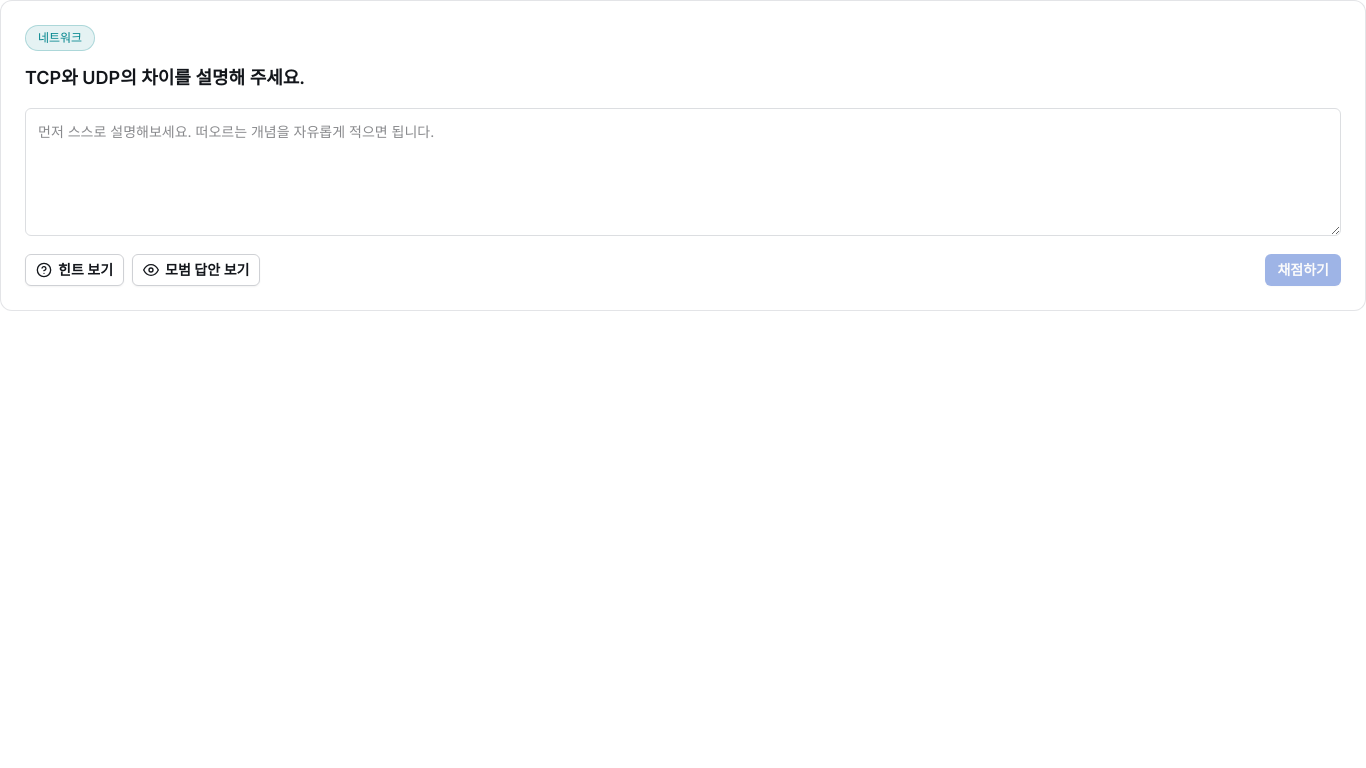
it: CsQuestionCard › 다시 풀기를 누르면 입력과 결과가 초기화된다
The image size is (1366, 768).
Type "답변" into the text box at (683, 172), box [25, 108, 1341, 236]
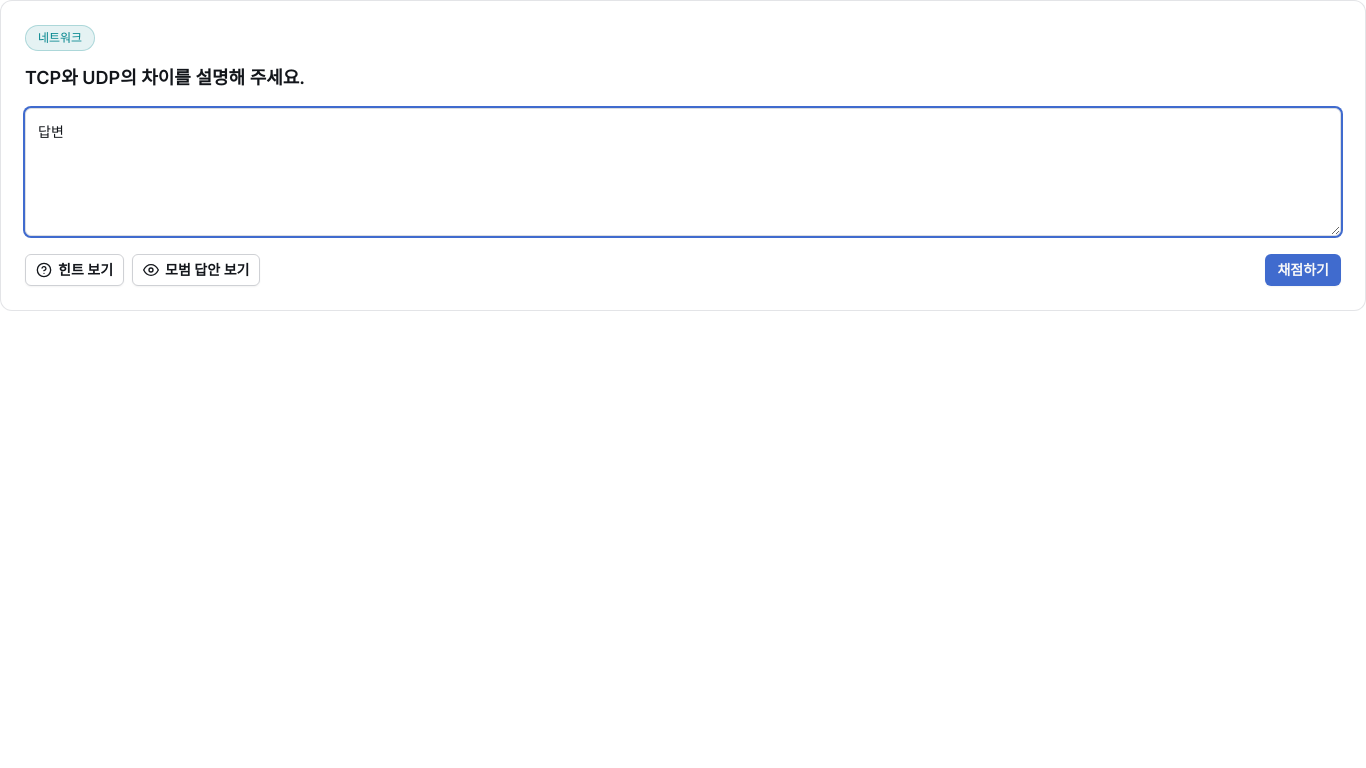
Click the button "채점하기" at (1303, 270), box [1266, 254, 1341, 286]
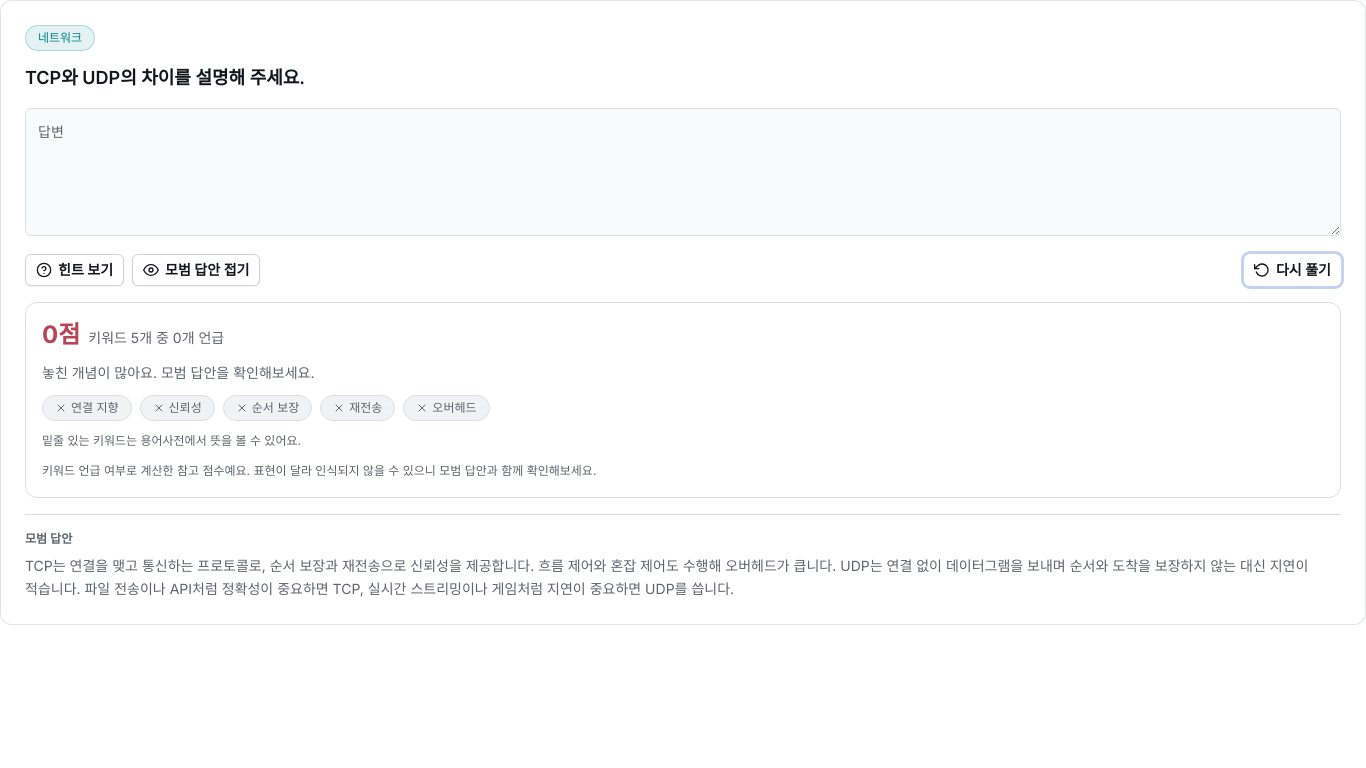
Result: the message is shown at [25, 302, 1341, 498]
Click the button "다시 풀기" at (1292, 270), box [1244, 254, 1341, 286]
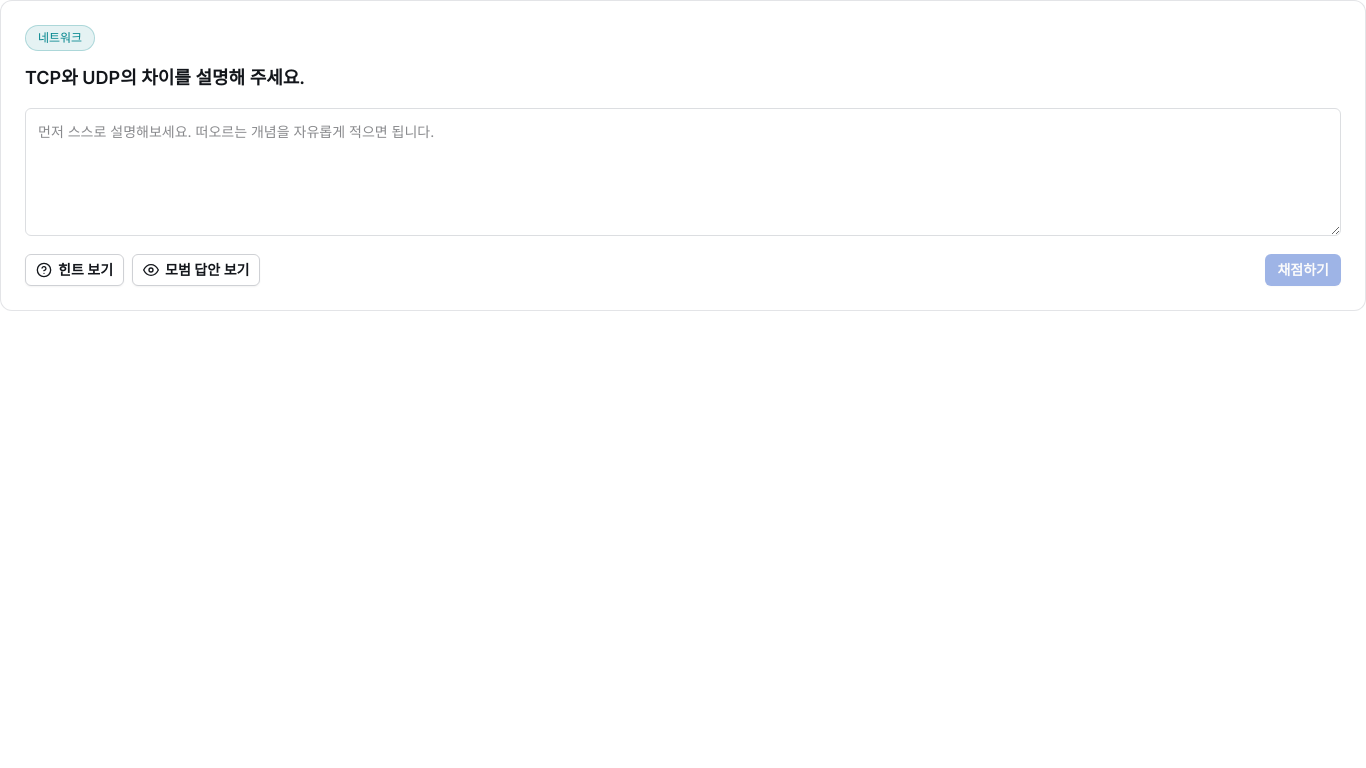
Result: the message is gone
Result: the text box is empty at [25, 108, 1341, 236]
Result: the text box is enabled at [25, 108, 1341, 236]
